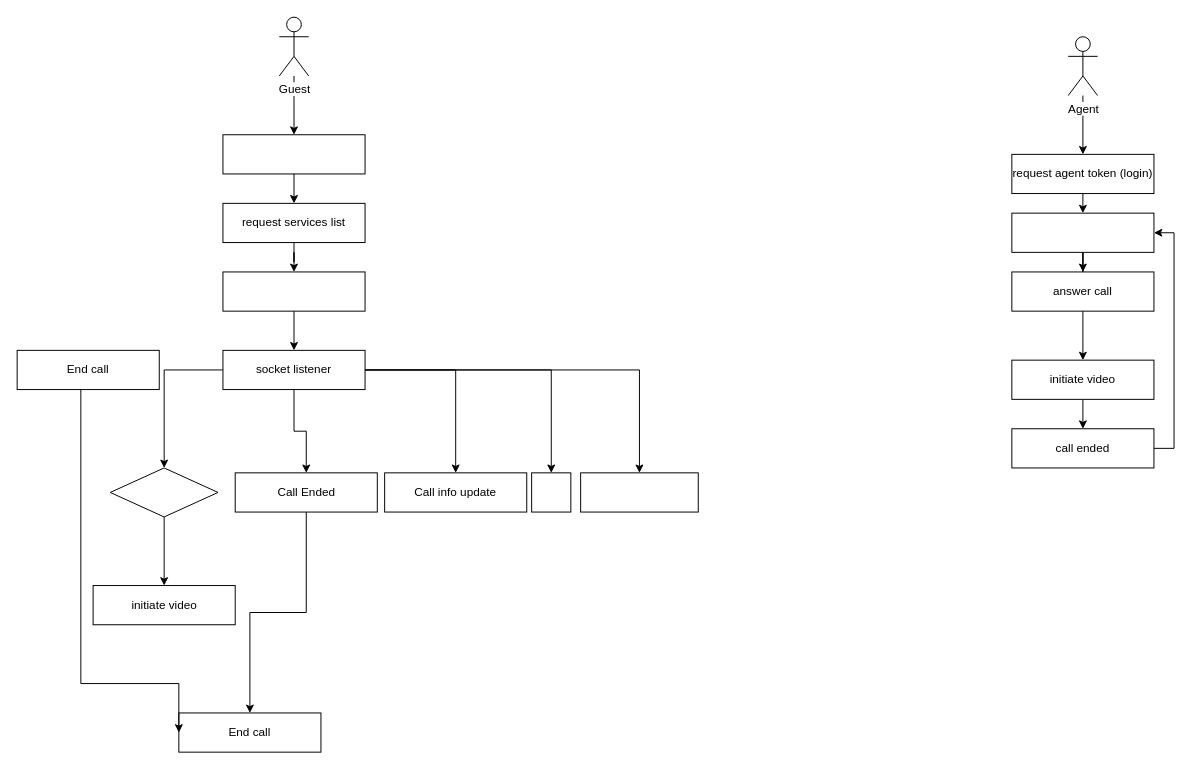
Image size: 1200x769. Some labels were removed from this diagram. Each missing label, with the box of its shape:
answered: (109, 467, 218, 517)
DM: (531, 472, 571, 512)
request guest token: (222, 134, 365, 174)
request pending calls list: (1011, 212, 1154, 252)
Request signature: (580, 472, 698, 512)
start a call: (222, 271, 365, 311)
